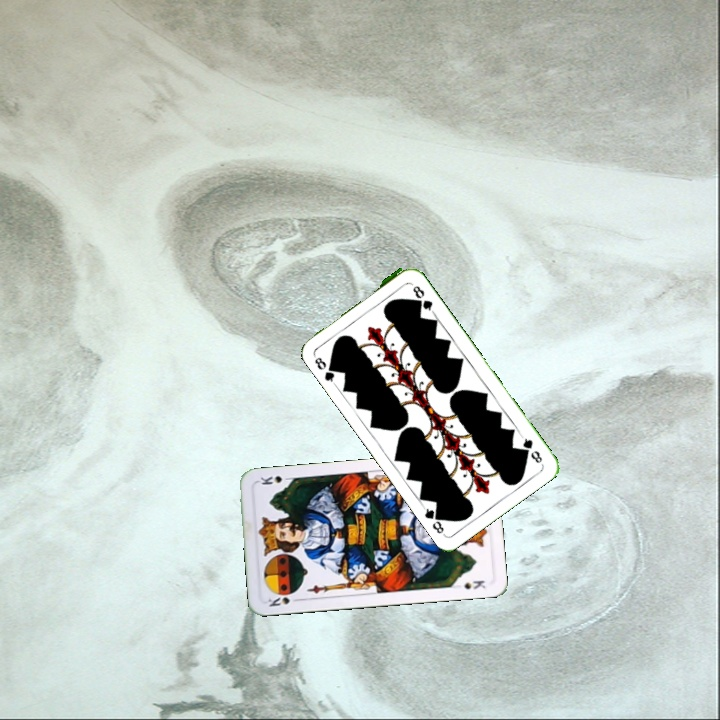G8: (309, 348, 340, 384), (517, 431, 545, 466)
SK: (264, 593, 303, 609)
